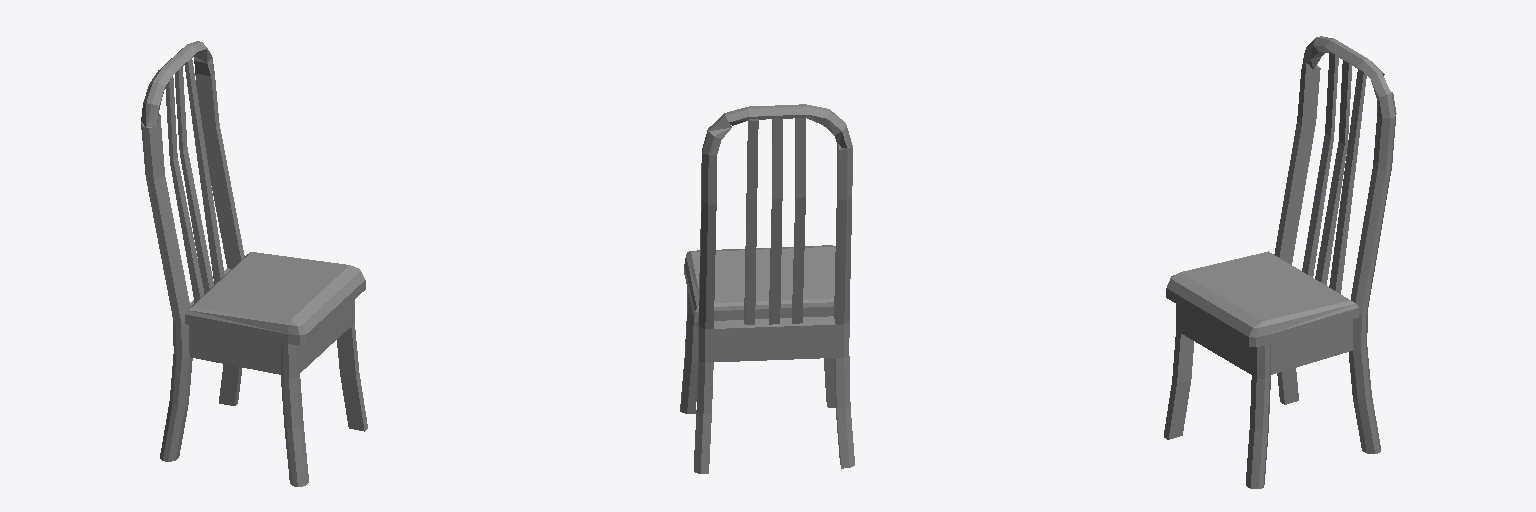
Rendered from chair1.obj.
The picture shows the model from 3 angles: view 1: azimuth 30°, elevation 25°; view 2: azimuth 150°, elevation 25°; view 3: azimuth 270°, elevation 25°; orthographic projection.
Parts seen in each view (by area): view 1: ch_gibs06; view 2: ch_gibs06; view 3: ch_gibs06.
Boxes of the visible parts, x1=… form: ch_gibs06: x1=141, y1=41, x2=367, y2=486; ch_gibs06: x1=680, y1=104, x2=854, y2=473; ch_gibs06: x1=1164, y1=36, x2=1396, y2=488.
Bounding box in the file's own units: 0.5719 × 1.03 × 0.5851.